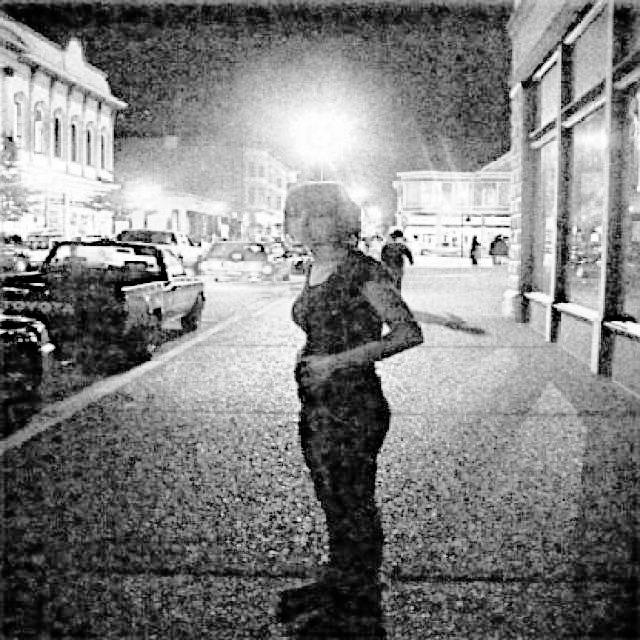Person: (263, 177, 428, 640)
